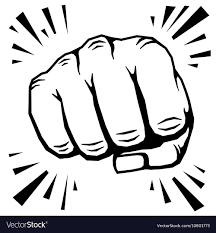fist: (28, 41, 193, 170)
